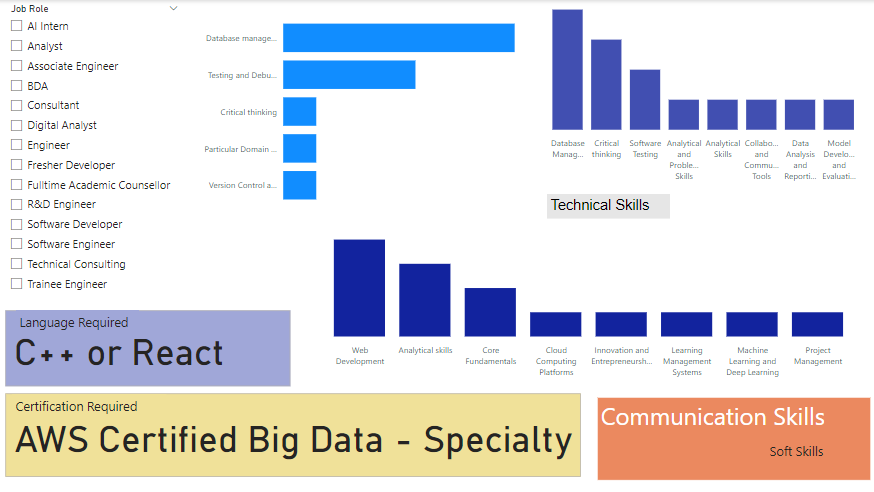

The dashboard page shown, as its layout file describes it:
{"tool":"powerbi","page":{"name":"Page 3","canvas":[1280,720],"ordinal":2},"visuals":[{"type":"cardVisual","fields":{"Data":["Min(Sheet1.Certification)"]},"box":[4.3,570,852.9,132.9],"z":0},{"type":"cardVisual","fields":{"Data":["Min(Sheet1.Main Language)"]},"box":[4.3,448.6,427.1,121.4],"z":1000},{"type":"image","box":[155.2,255.2,40.3,46.3],"z":2000},{"type":"treemap","fields":{"Group":["Sheet1.Soft skills"],"Values":["CountNonNull(Sheet1.Job Role)"]},"box":[870,577.1,410,131.4],"z":2500},{"type":"textbox","box":[18.6,577.1,225.7,38.6],"z":3000},{"type":"textbox","box":[1122.9,642.9,140,47.1],"z":4000},{"type":"textbox","box":[801.4,284.3,180,35.7],"z":5000},{"type":"slicer","fields":{"Values":["Sheet1.Job Role"]},"box":[4.3,0,270,448.6],"z":6000},{"type":"lineClusteredColumnComboChart","fields":{"Category":["Sheet1.Skill 2"],"Y":["CountNonNull(Sheet1.Job Role)"]},"box":[774.3,0,505.7,272.9],"z":8000},{"type":"columnChart","fields":{"Category":["Sheet1.Skill 1"],"Y":["CountNonNull(Sheet1.Job Role)"]},"box":[431.4,337.1,848.6,222.9],"z":9000},{"type":"barChart","fields":{"Category":["Sheet1.Skill 4"],"Y":["CountNonNull(Sheet1.Job Role)"]},"box":[284.3,0,475.7,320],"z":10000},{"type":"textbox","box":[25,454.3,180,40],"z":11000}]}

Visuals, with their boxes on the page's 1280x720 design canvas (x1, y1, x2, y2). These are canvas units, not pixel positions in the 874x492 screenshot, which may show the page scaled, cropped or inside an application window:
cardVisual - Min(Sheet1.Certification): bbox=(4, 570, 857, 703)
cardVisual - Min(Sheet1.Main Language): bbox=(4, 449, 431, 570)
image: bbox=(155, 255, 196, 302)
treemap - Sheet1.Soft skills x CountNonNull(Sheet1.Job Role): bbox=(870, 577, 1280, 708)
textbox: bbox=(19, 577, 244, 616)
textbox: bbox=(1123, 643, 1263, 690)
textbox: bbox=(801, 284, 981, 320)
slicer - Sheet1.Job Role: bbox=(4, 0, 274, 449)
lineClusteredColumnComboChart - Sheet1.Skill 2 x CountNonNull(Sheet1.Job Role): bbox=(774, 0, 1280, 273)
columnChart - Sheet1.Skill 1 x CountNonNull(Sheet1.Job Role): bbox=(431, 337, 1280, 560)
barChart - Sheet1.Skill 4 x CountNonNull(Sheet1.Job Role): bbox=(284, 0, 760, 320)
textbox: bbox=(25, 454, 205, 494)
